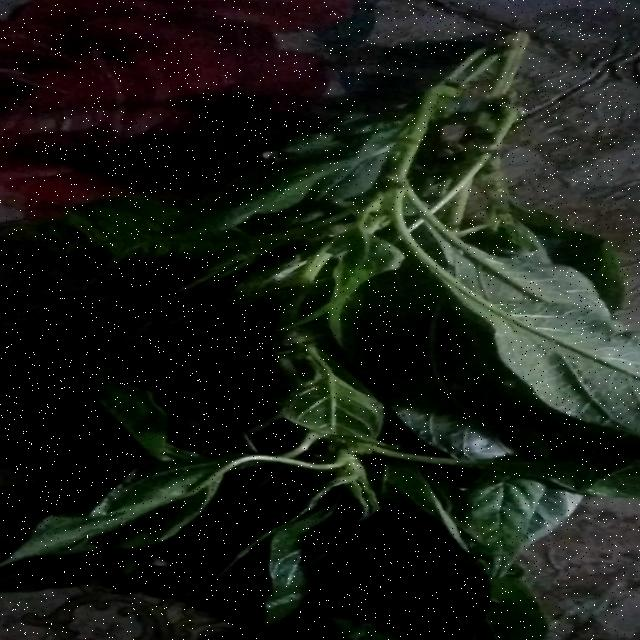Spinach: (94, 27, 602, 605)
